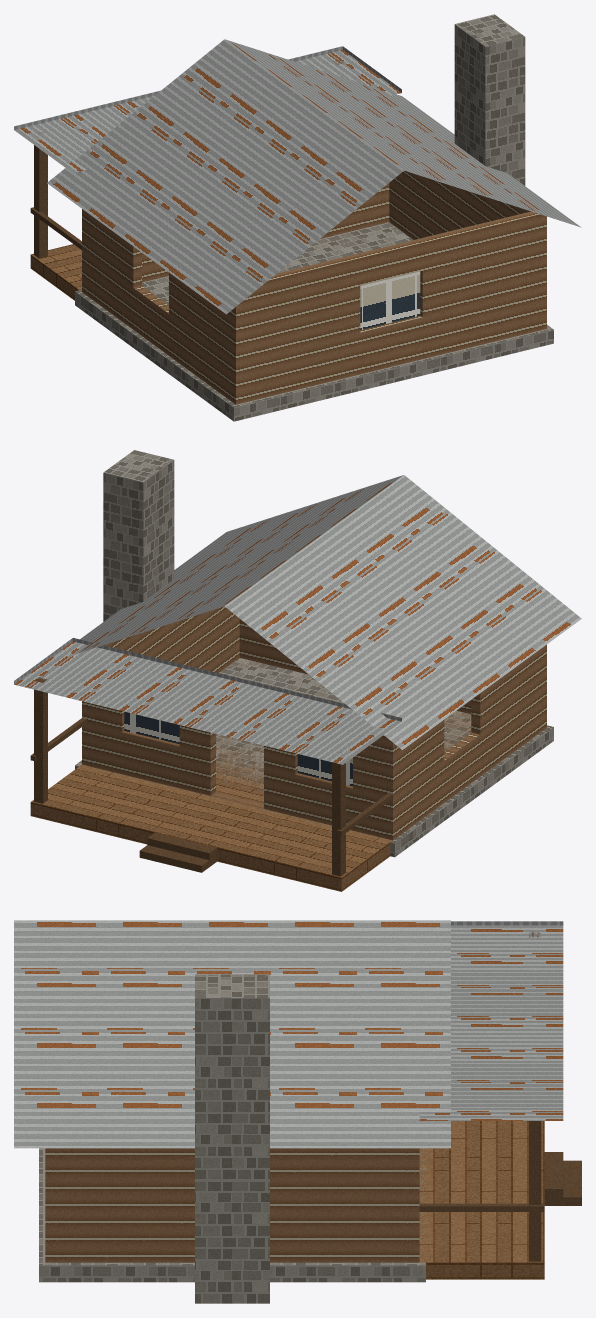
File: log_cabin_dark.glb
The picture shows the model from 3 angles, top to bottom: view 1: azimuth 30°, elevation 25°; view 2: azimuth 150°, elevation 25°; view 3: azimuth 270°, elevation 25°; orthographic projection. The views are drawn at different scales.
Parts seen in each view (by area): view 1: log_cabin_dark; view 2: log_cabin_dark; view 3: log_cabin_dark.
Boxes of the visible parts, x1=… form: log_cabin_dark: x1=14, y1=14, x2=581, y2=421; log_cabin_dark: x1=14, y1=450, x2=581, y2=891; log_cabin_dark: x1=14, y1=920, x2=581, y2=1303.
Bounding box in the file's own units: 8.4 × 5.4 × 9.1.
Materials: 7 (7 with a texture image).
